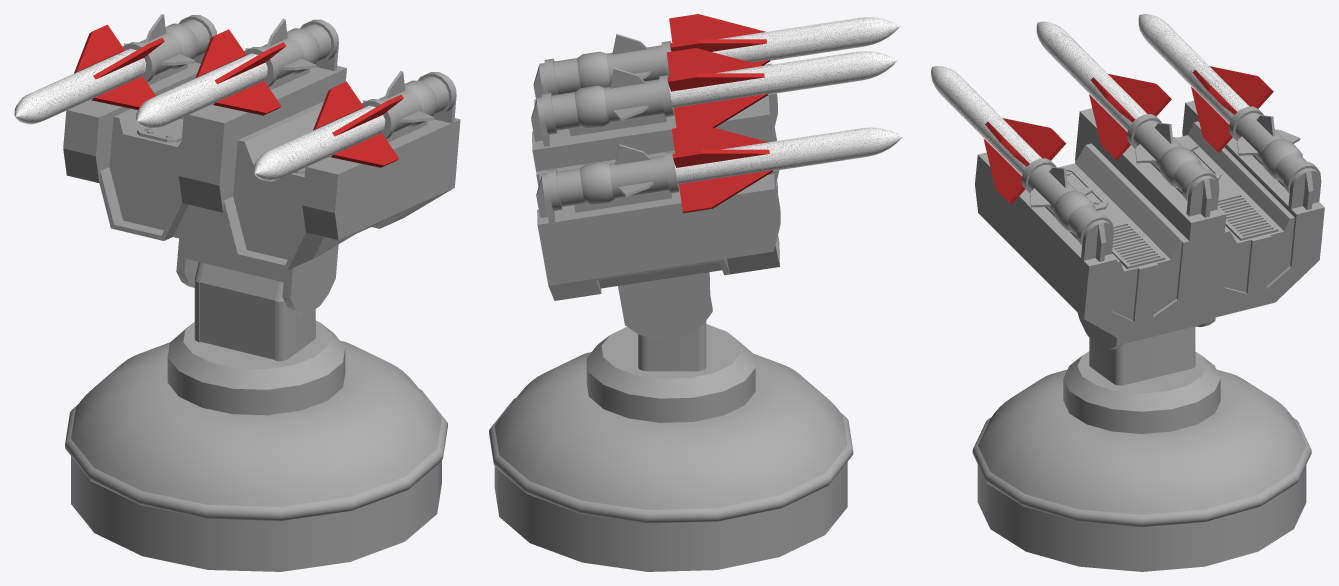
The model's file is MissileLauncher.dae.
The picture shows the model from 3 angles, left to right: view 1: azimuth 30°, elevation 25°; view 2: azimuth 150°, elevation 25°; view 3: azimuth 270°, elevation 25°; orthographic projection. The views are drawn at different scales.
Visible parts, largest first — view 1: Fuss (×2), SketchUp (×3), Rakete (×3), raketenfluegel (×9), zwischenstk, abschussplatz (×4); view 2: Fuss (×2), SketchUp (×3), Rakete (×3), raketenfluegel (×8), abschussplatz (×5), zwischenstk; view 3: Fuss (×2), SketchUp (×3), Rakete (×3), raketenfluegel (×6), abschussplatz (×4), zwischenstk, Gitter (×2).
Part boxes in pixels (x1,y1,x2,y2): Fuss (×2): [65, 320, 447, 571]; SketchUp (×3): [63, 15, 460, 313]; Rakete (×3): [14, 48, 385, 181]; raketenfluegel (×9): [74, 24, 403, 167]; zwischenstk: [194, 262, 315, 361]; abschussplatz (×4): [261, 19, 456, 132]; Fuss (×2): [489, 324, 853, 571]; SketchUp (×3): [532, 63, 780, 339]; Rakete (×3): [669, 17, 902, 185]; raketenfluegel (×8): [666, 14, 772, 213]; abschussplatz (×5): [531, 45, 666, 146]; zwischenstk: [638, 321, 706, 371]; Fuss (×2): [972, 351, 1311, 571]; SketchUp (×3): [975, 100, 1324, 349]; Rakete (×3): [931, 14, 1249, 175]; raketenfluegel (×6): [983, 66, 1273, 204]; abschussplatz (×4): [1028, 120, 1219, 261]; zwischenstk: [1089, 326, 1195, 385]; Gitter (×2): [1112, 193, 1278, 268].
Bounding box in the file's own units: 6.07 × 5.66 × 6.52.
